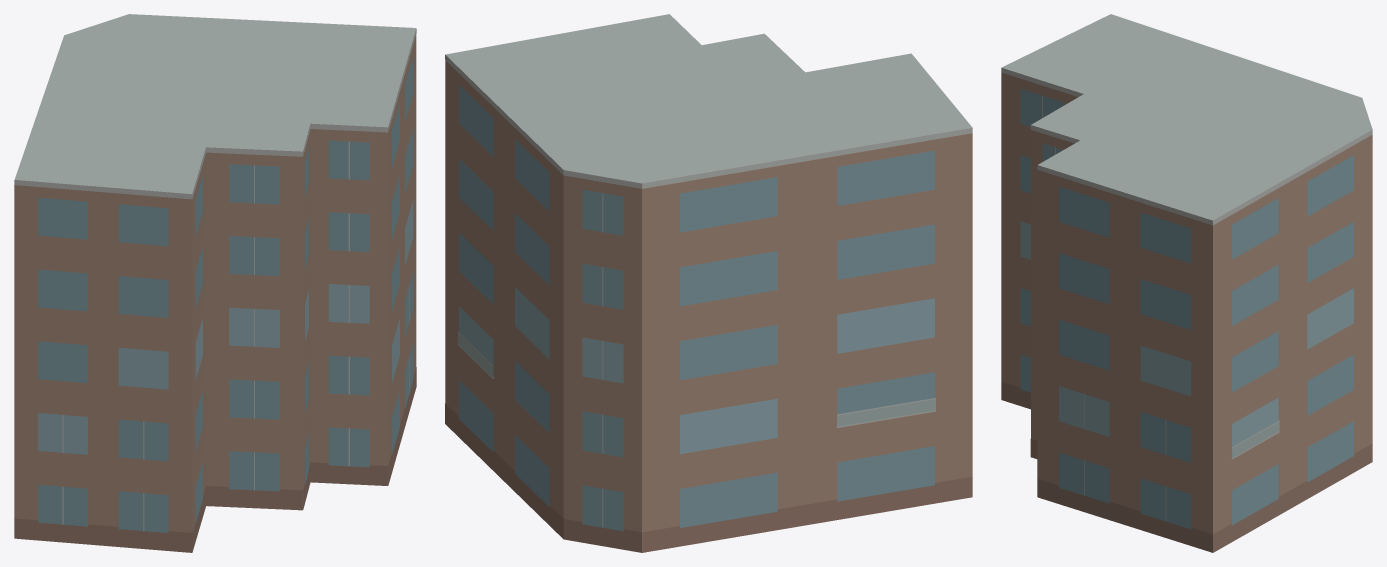
Rendered from survey-upis-33023886.glb.
The picture shows the model from 3 angles, left to right: view 1: azimuth 30°, elevation 25°; view 2: azimuth 150°, elevation 25°; view 3: azimuth 270°, elevation 25°; orthographic projection. The views are drawn at different scales.
Visible parts, largest first — view 1: survey-upis-33023886.tmp; view 2: survey-upis-33023886.tmp; view 3: survey-upis-33023886.tmp.
Part boxes in pixels (box(x1,y1,x2,y2)): survey-upis-33023886.tmp: box(14, 14, 416, 552); survey-upis-33023886.tmp: box(445, 14, 972, 552); survey-upis-33023886.tmp: box(1001, 14, 1372, 552).
Bounding box in the file's own units: 22.42 × 16.8 × 17.03.
